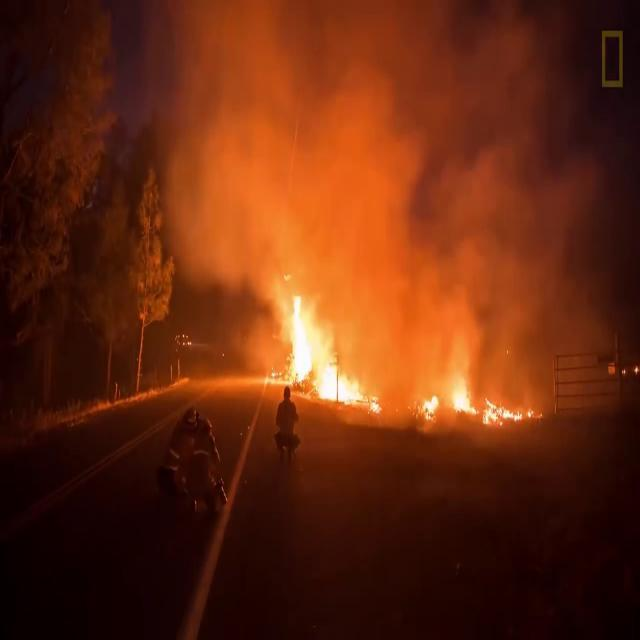Fire: (279, 278, 383, 414), (444, 370, 476, 414), (482, 398, 522, 430), (415, 392, 437, 416)
